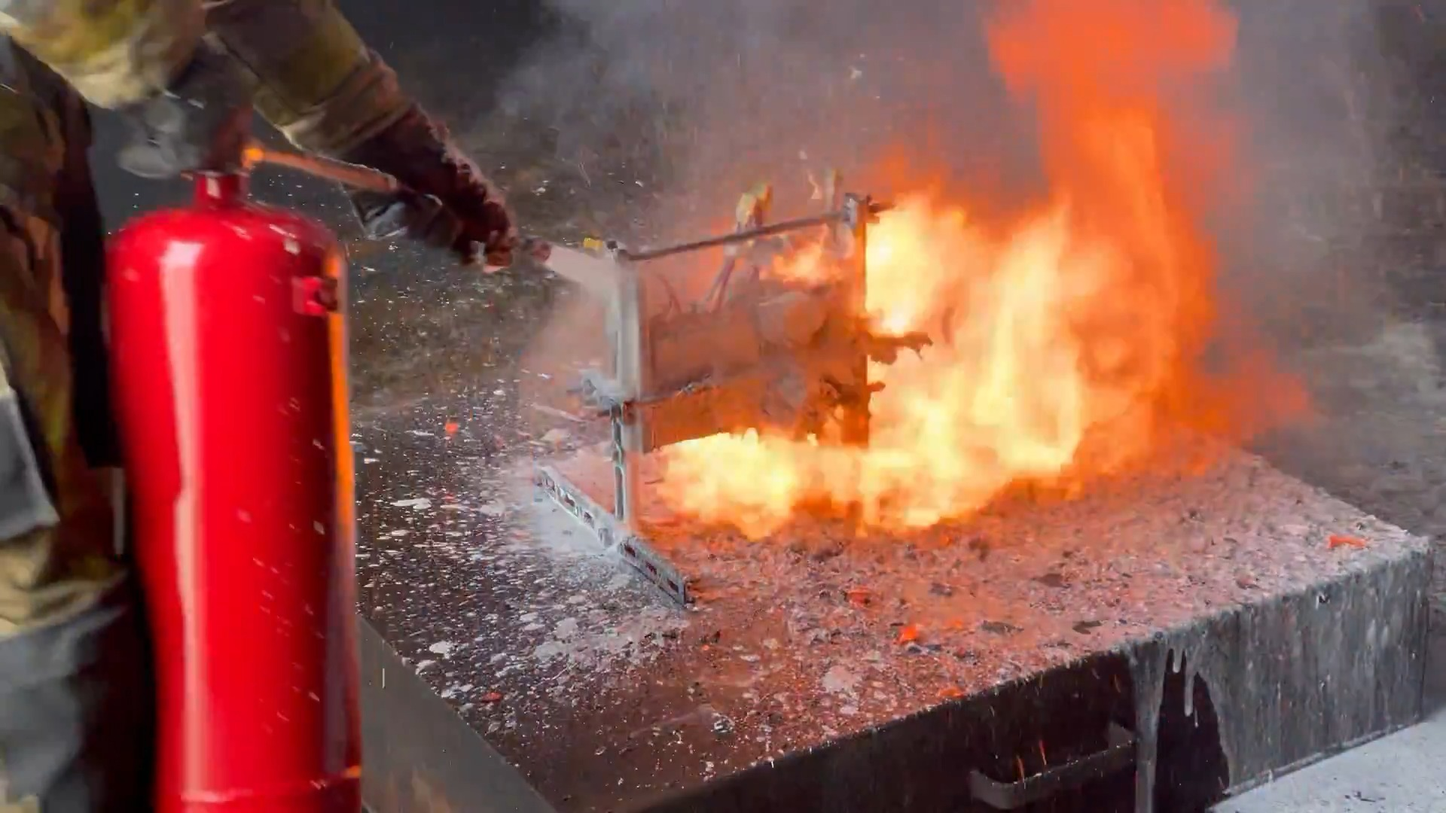fire: (651, 0, 1319, 551)
smoke: (400, 0, 1046, 223), (1199, 0, 1446, 416)
